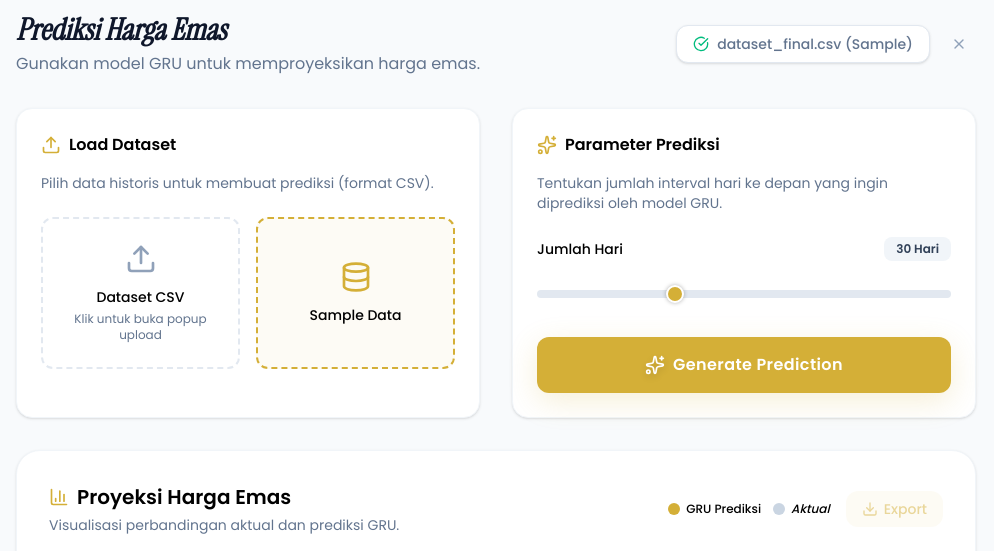
Test: Predict Page › should update day slider value
Set the slider to "60". click: point(809, 294)
box: [537,290,951,298]
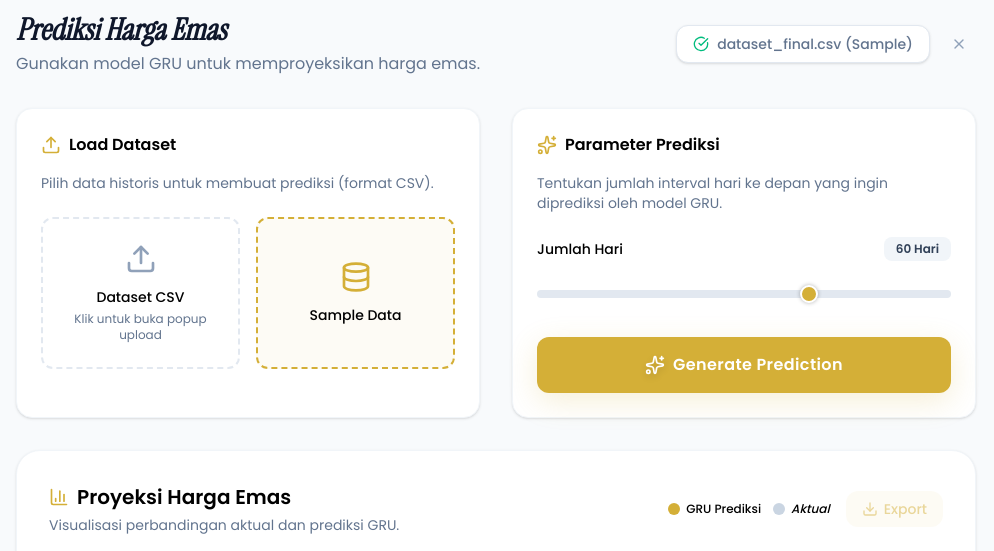
Now the text "60 Hari" is shown, box [884,237,951,261]
